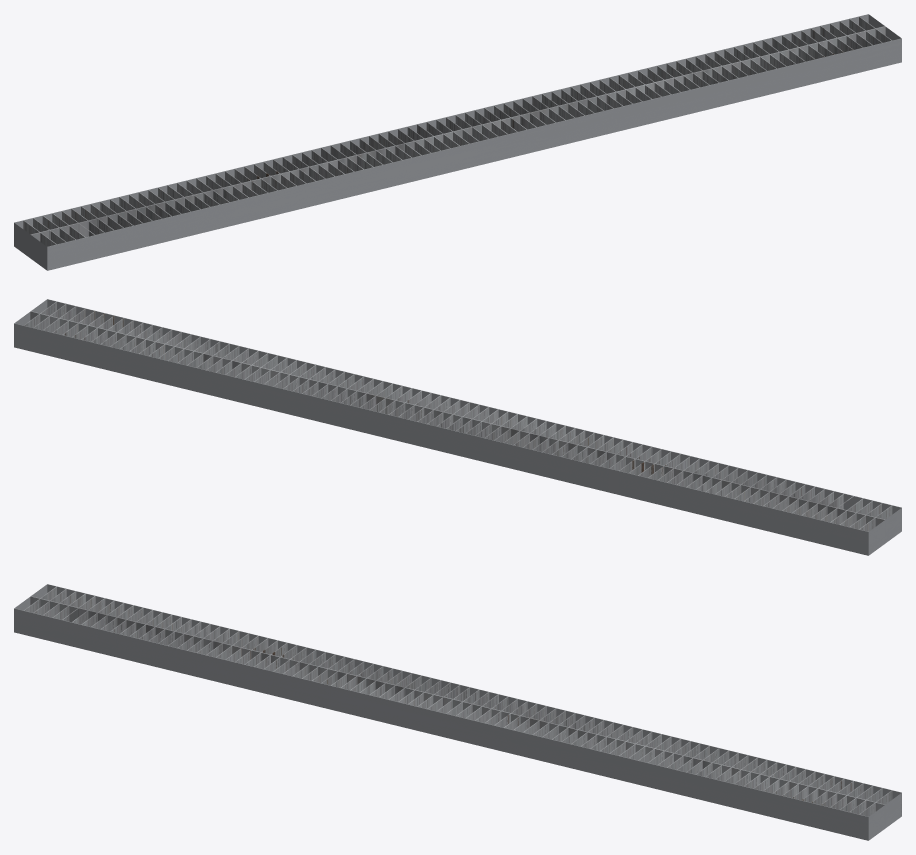
The model's file is Deckenlampe.fbx.
3 views of the same model, one above another, from view 1: azimuth 30°, elevation 25°; view 2: azimuth 150°, elevation 25°; view 3: azimuth 330°, elevation 25° (orthographic).
Visible parts, largest first — view 1: Cube; view 2: Cube; view 3: Cube.
Part boxes in pixels (x1,y1,x2,y2): Cube: (14, 14, 901, 270); Cube: (14, 299, 901, 555); Cube: (14, 584, 901, 840).
Bounding box in the file's own units: 600 × 16 × 40.64.
